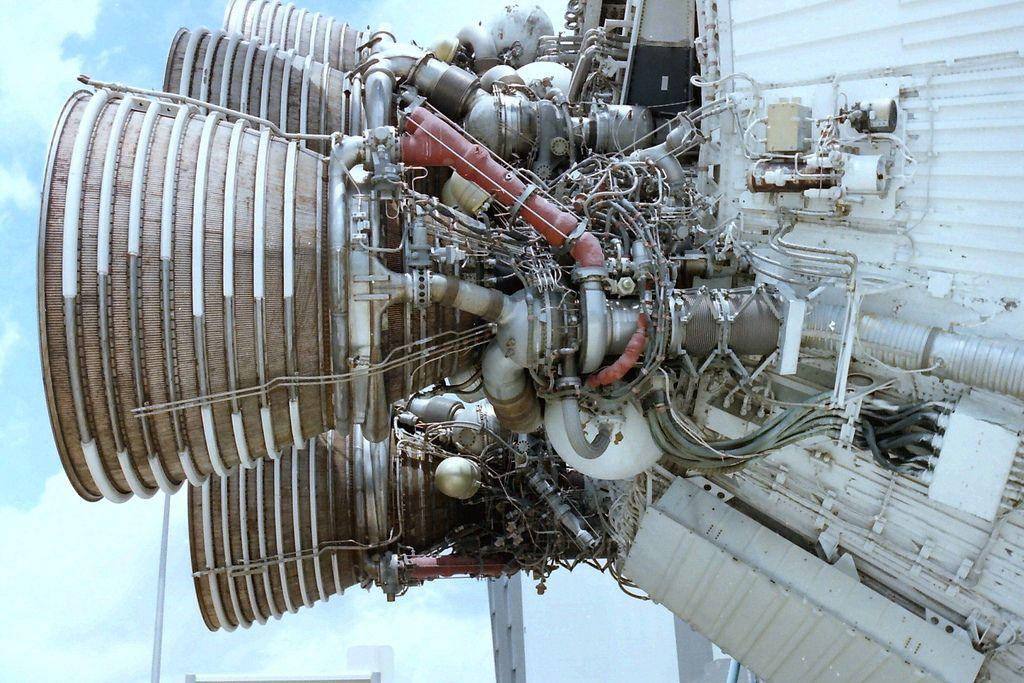thruster: (34, 81, 519, 504), (184, 420, 472, 637), (160, 23, 403, 159), (212, 0, 377, 79)
